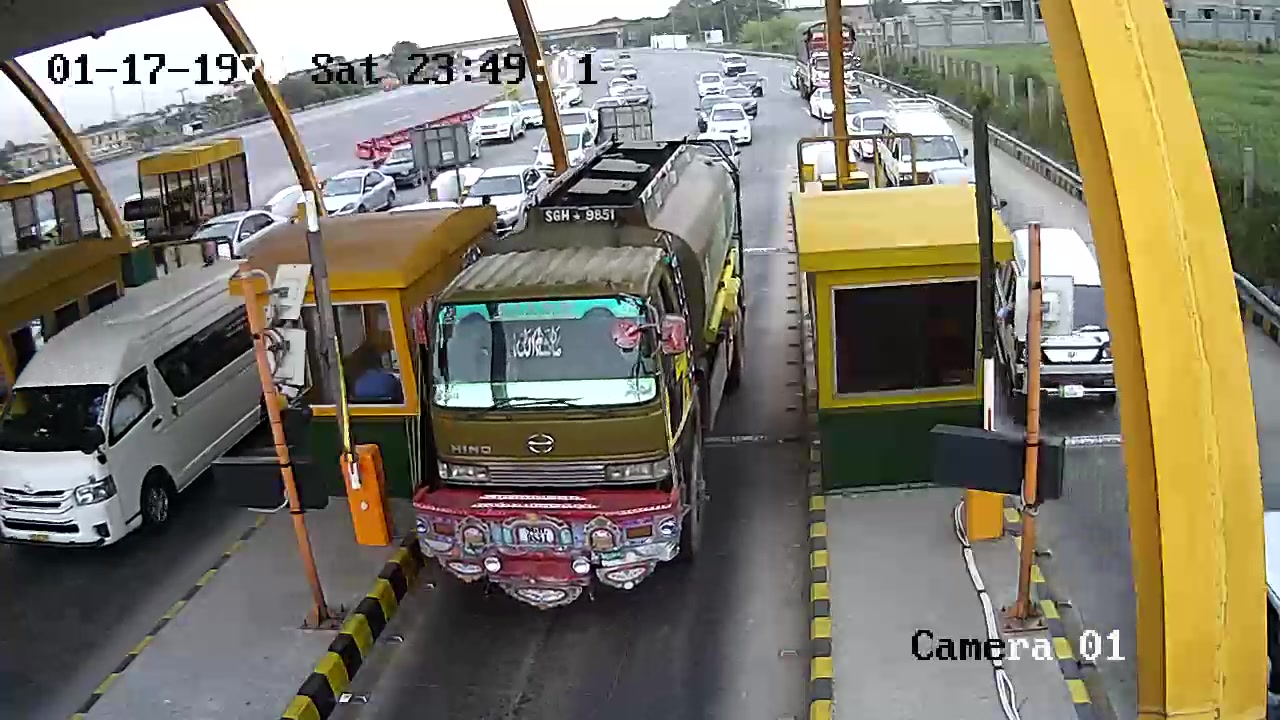F5: (405, 132, 750, 612)
